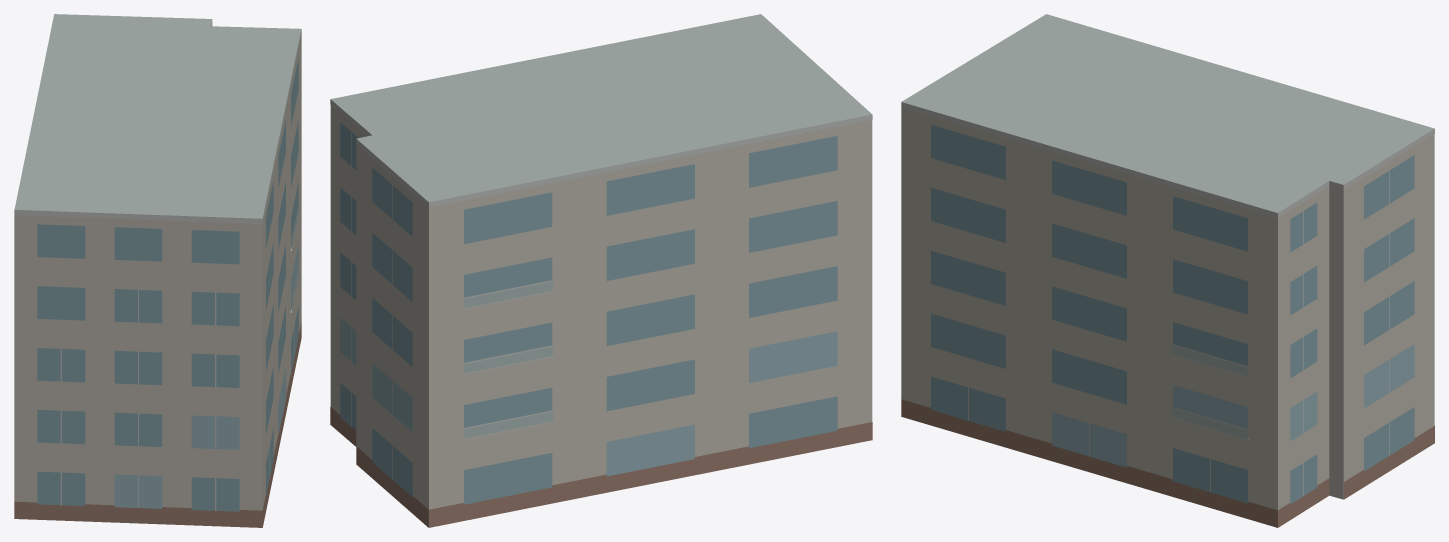
Rendered from survey-upis-32734410.glb.
3 views of the same model, side by side, from view 1: azimuth 30°, elevation 25°; view 2: azimuth 150°, elevation 25°; view 3: azimuth 270°, elevation 25° (orthographic). The views are drawn at different scales.
Visible parts, largest first — view 1: survey-upis-32734410.tmp; view 2: survey-upis-32734410.tmp; view 3: survey-upis-32734410.tmp.
Part boxes in pixels (<box>): survey-upis-32734410.tmp: <box>14,14,301,527</box>; survey-upis-32734410.tmp: <box>330,14,872,527</box>; survey-upis-32734410.tmp: <box>901,14,1434,527</box>.
Bounding box in the file's own units: 19.55 × 14.4 × 22.13.
